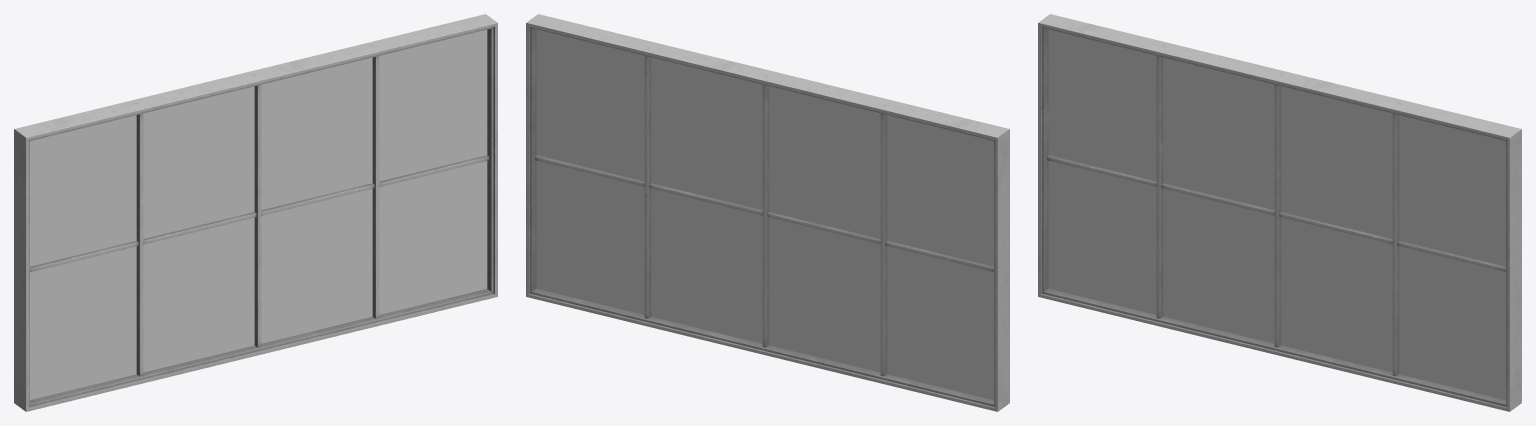
Rendered from Window_250x450.FBX.
The picture shows the model from 3 angles, left to right: view 1: azimuth 30°, elevation 25°; view 2: azimuth 150°, elevation 25°; view 3: azimuth 330°, elevation 25°; orthographic projection.
Parts seen in each view (by area): view 1: Window_250x450; view 2: Window_250x450; view 3: Window_250x450.
Boxes of the visible parts, x1,y1,x2,y2 form: Window_250x450: [14, 14, 497, 411]; Window_250x450: [526, 14, 1009, 411]; Window_250x450: [1038, 14, 1521, 411].
Bounding box in the file's own units: 450 × 250 × 20.
